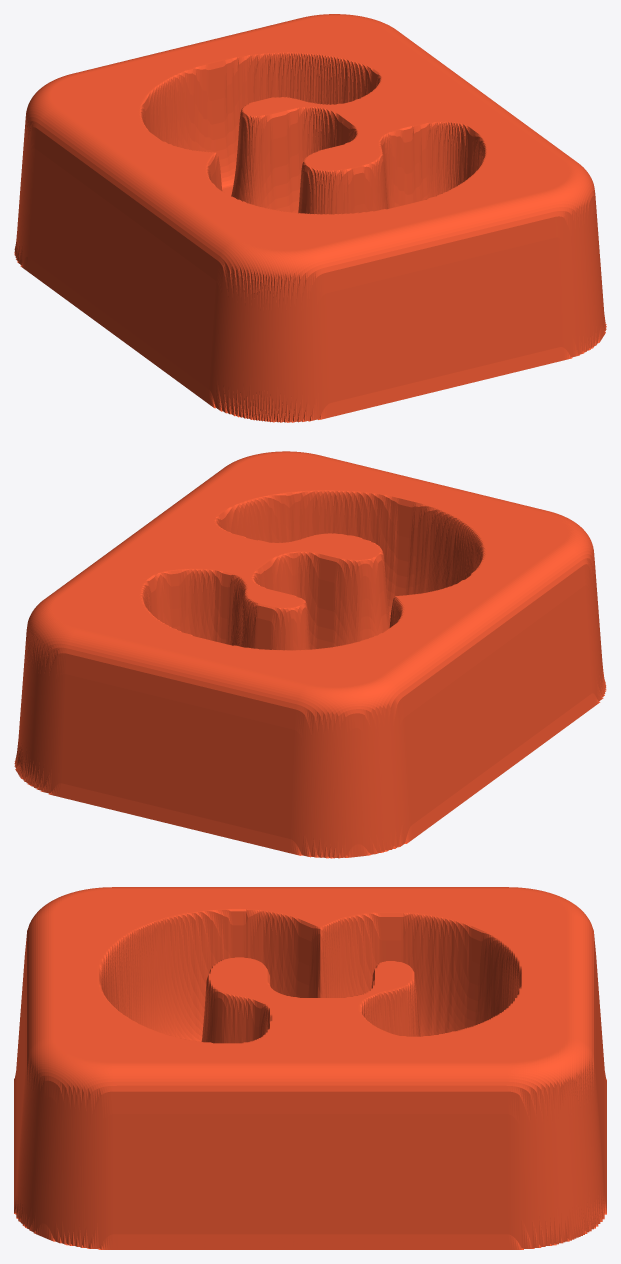
File: mold.glb
The picture shows the model from 3 angles, top to bottom: view 1: azimuth 30°, elevation 25°; view 2: azimuth 150°, elevation 25°; view 3: azimuth 270°, elevation 25°; orthographic projection. The views are drawn at different scales.
Visible parts, largest first — view 1: geometry_0; view 2: geometry_0; view 3: geometry_0.
Boxes of the visible parts, <box> form: geometry_0: <box>14,14,606,422</box>; geometry_0: <box>14,451,606,858</box>; geometry_0: <box>14,887,606,1249</box>.
Size of the model in its own units: 0.0446 by 0.0172 by 0.0542.
